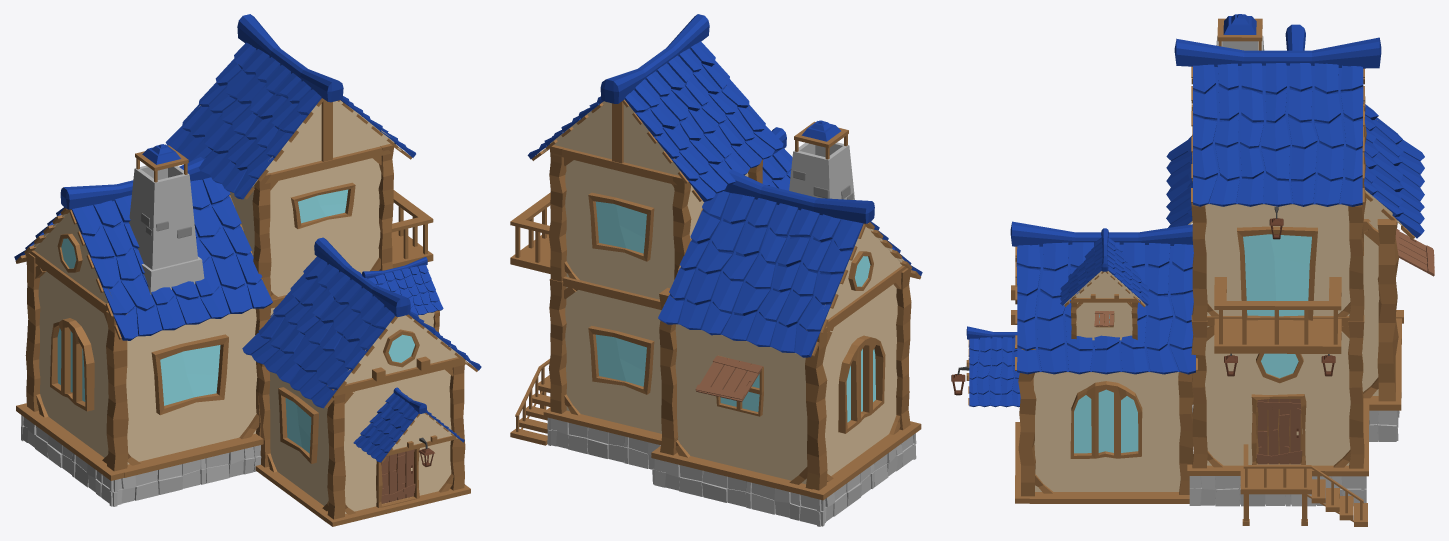
File: House1.fbx
3 renders of one model, left to right at view 1: azimuth 30°, elevation 25°; view 2: azimuth 150°, elevation 25°; view 3: azimuth 270°, elevation 25°, orthographic. The views are drawn at different scales.
Parts seen in each view (by area): view 1: House1; view 2: House1; view 3: House1.
Part boxes in pixels (x1,y1,x2,y2): House1: (14,14,481,526); House1: (510,14,922,526); House1: (951,14,1434,526).
Size of the model in its own units: 4519 by 4886 by 4972.
